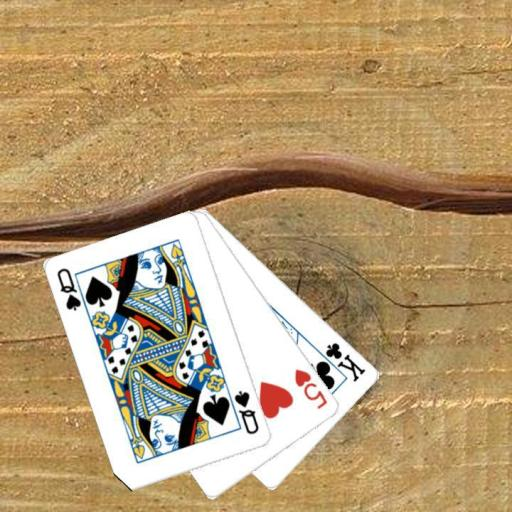5H: (292, 366, 329, 411)
KC: (313, 339, 368, 384)
QS: (231, 387, 261, 436), (54, 265, 83, 313)
